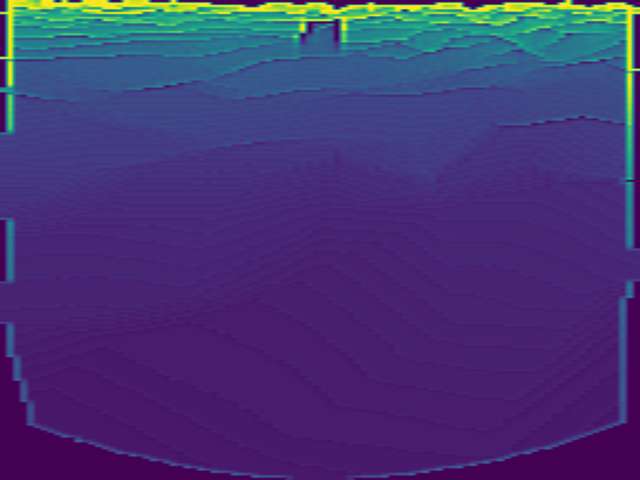car_0198: (297, 18, 343, 54)
